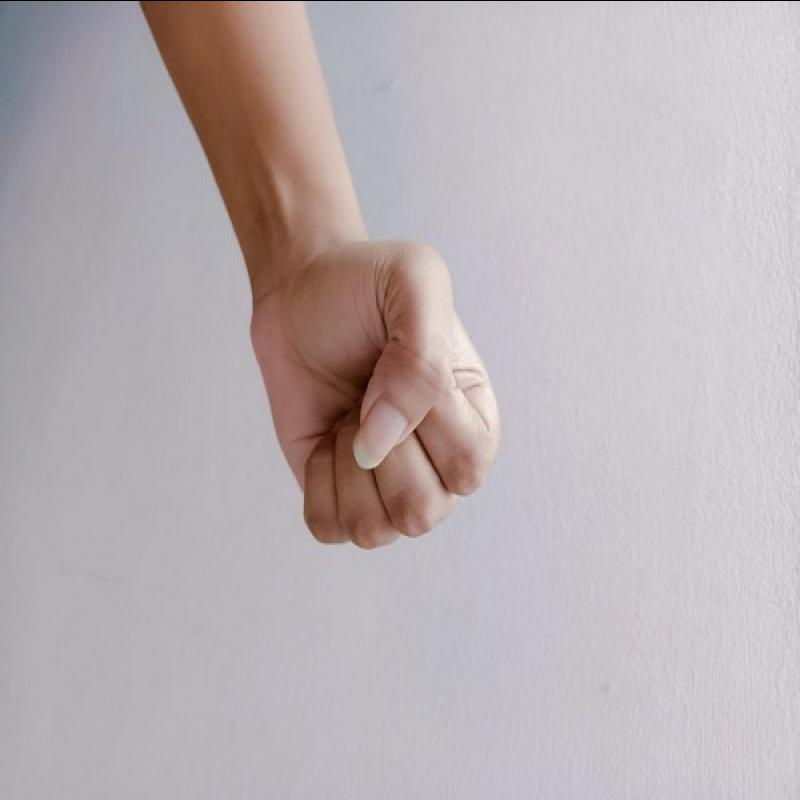Mushti: (237, 208, 509, 563)
